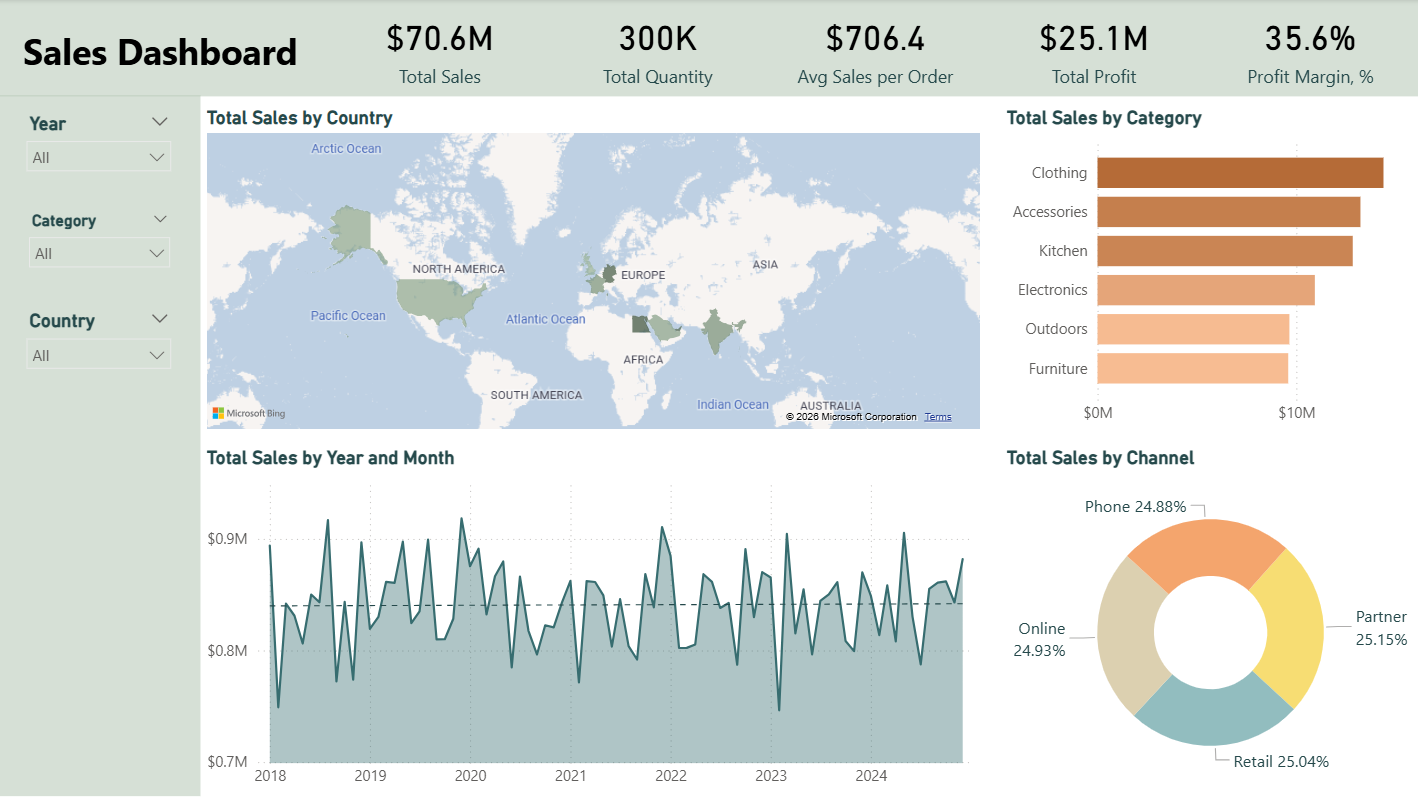

What the dashboard file says about the page in this screenshot:
{"tool":"powerbi","page":{"name":"Sales Dashboard","canvas":[1280,720],"ordinal":0},"visuals":[{"type":"shape","box":[0,86.8,181,632.2],"z":0},{"type":"shape","box":[0,0,1280.3,87.8],"z":1000},{"type":"card","fields":{"Values":["_Measures.Total Sales"]},"box":[299.1,0,196.2,87.8],"z":2000},{"type":"clusteredBarChart","fields":{"Y":["_Measures.Total Sales"],"Category":["DimProduct.Category","DimProduct.SubCategory"]},"box":[902.5,96.6,377.9,295.9],"z":3000},{"type":"filledMap","title":"Total Sales by Country","fields":{"Category":["DimGeography.Country"]},"box":[181,96.6,706.8,295.9],"z":4000},{"type":"lineChart","fields":{"Category":["FactSales.OrderDateKey.Variation.Date Hierarchy.Year","FactSales.OrderDateKey.Variation.Date Hierarchy.Month"],"Y":["_Measures.Total Sales"]},"box":[181,403.5,706.8,316.7],"z":5000},{"type":"donutChart","fields":{"Y":["_Measures.Total Sales"],"Category":["FactSales.Channel"]},"box":[902.5,403.5,377.9,316.7],"z":6000},{"type":"textbox","box":[15.9,20.8,270.2,66],"z":7000},{"type":"slicer","fields":{"Values":["FactSales.OrderDateKey.Variation.Date Hierarchy.Year"]},"box":[13.5,96.6,150.4,73.4],"z":8000},{"type":"slicer","fields":{"Values":["DimProduct.Category"]},"box":[15.9,185.9,148,68.5],"z":9000},{"type":"slicer","fields":{"Values":["DimGeography.Country"]},"box":[13.5,275.1,150.4,63.6],"z":10000},{"type":"card","fields":{"Values":["_Measures.Total Quantity"]},"box":[494.3,0,197.1,87.1],"z":11000},{"type":"card","fields":{"Values":["_Measures.Avg Sales per Order"]},"box":[691.4,0,197.1,87.1],"z":12000},{"type":"card","fields":{"Values":["_Measures.Total Profit"]},"box":[888.6,0,197.1,87.1],"z":13000},{"type":"card","fields":{"Values":["_Measures.Profit Margin %"]},"box":[1082.9,0,197.1,87.1],"z":14000}]}

Visuals, with their boxes in screenshot pixels (x1, y1, x2, y2), scaled from the page's 1280x720 canvas onto the 1418x797 screenshot:
shape: {"x1": 0, "y1": 96, "x2": 201, "y2": 796}
shape: {"x1": 0, "y1": 0, "x2": 1417, "y2": 97}
card - _Measures.Total Sales: {"x1": 331, "y1": 0, "x2": 549, "y2": 97}
clusteredBarChart - _Measures.Total Sales x DimProduct.Category: {"x1": 1000, "y1": 107, "x2": 1417, "y2": 434}
"Total Sales by Country" filledMap: {"x1": 201, "y1": 107, "x2": 984, "y2": 434}
lineChart - FactSales.OrderDateKey.Variation.Date Hierarchy.Year x FactSales.OrderDateKey.Variation.Date Hierarchy.Month: {"x1": 201, "y1": 447, "x2": 984, "y2": 796}
donutChart - _Measures.Total Sales x FactSales.Channel: {"x1": 1000, "y1": 447, "x2": 1417, "y2": 796}
textbox: {"x1": 18, "y1": 23, "x2": 317, "y2": 96}
slicer - FactSales.OrderDateKey.Variation.Date Hierarchy.Year: {"x1": 15, "y1": 107, "x2": 182, "y2": 188}
slicer - DimProduct.Category: {"x1": 18, "y1": 206, "x2": 182, "y2": 282}
slicer - DimGeography.Country: {"x1": 15, "y1": 305, "x2": 182, "y2": 375}
card - _Measures.Total Quantity: {"x1": 548, "y1": 0, "x2": 766, "y2": 96}
card - _Measures.Avg Sales per Order: {"x1": 766, "y1": 0, "x2": 984, "y2": 96}
card - _Measures.Total Profit: {"x1": 984, "y1": 0, "x2": 1203, "y2": 96}
card - _Measures.Profit Margin %: {"x1": 1200, "y1": 0, "x2": 1417, "y2": 96}
